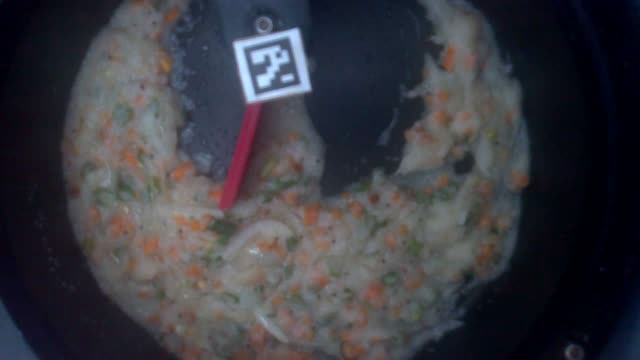stirrer: (212, 1, 322, 102)
